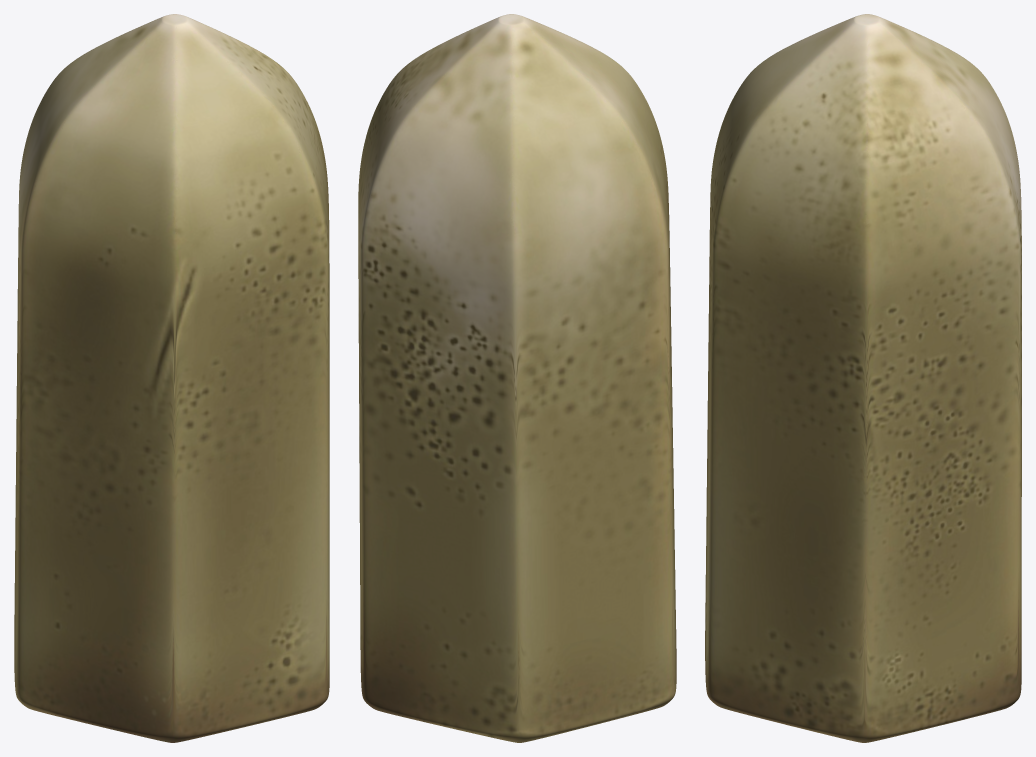
File: DoradaTorre_6_scaled.glb
The picture shows the model from 3 angles, left to right: view 1: azimuth 30°, elevation 25°; view 2: azimuth 150°, elevation 25°; view 3: azimuth 270°, elevation 25°; orthographic projection.
Visible parts, largest first — view 1: 12944_Stone_Chess_Pawn_Side_A_V2_L3; view 2: 12944_Stone_Chess_Pawn_Side_A_V2_L3; view 3: 12944_Stone_Chess_Pawn_Side_A_V2_L3.
Boxes of the visible parts, left/top/right/bottom form: 12944_Stone_Chess_Pawn_Side_A_V2_L3: left=14, top=14, right=329, bottom=742; 12944_Stone_Chess_Pawn_Side_A_V2_L3: left=358, top=14, right=676, bottom=742; 12944_Stone_Chess_Pawn_Side_A_V2_L3: left=705, top=14, right=1021, bottom=742.
Size of the model in its own units: 0.4659 by 0.9408 by 0.4111.
1 material, 1 textured.
